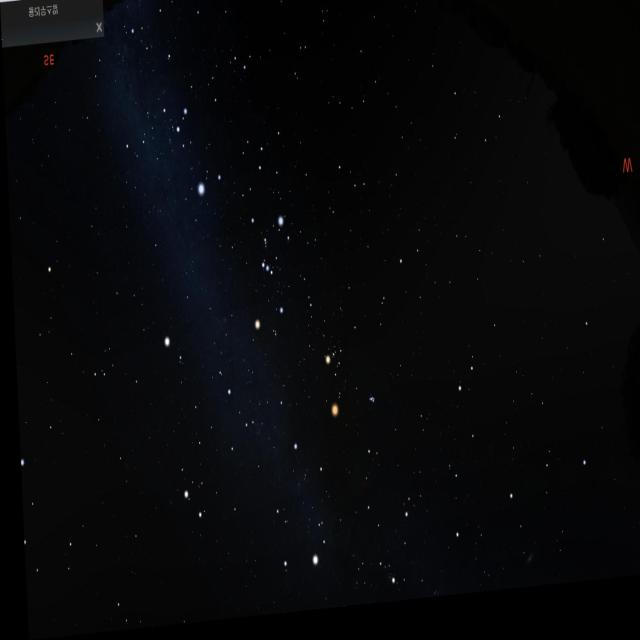canis_major: (171, 95, 228, 204)
canis_minor: (152, 321, 188, 380)
gemini: (164, 363, 273, 547)
orion: (240, 209, 296, 352)
pleiades: (358, 388, 377, 419)
taurus: (301, 306, 389, 438)
